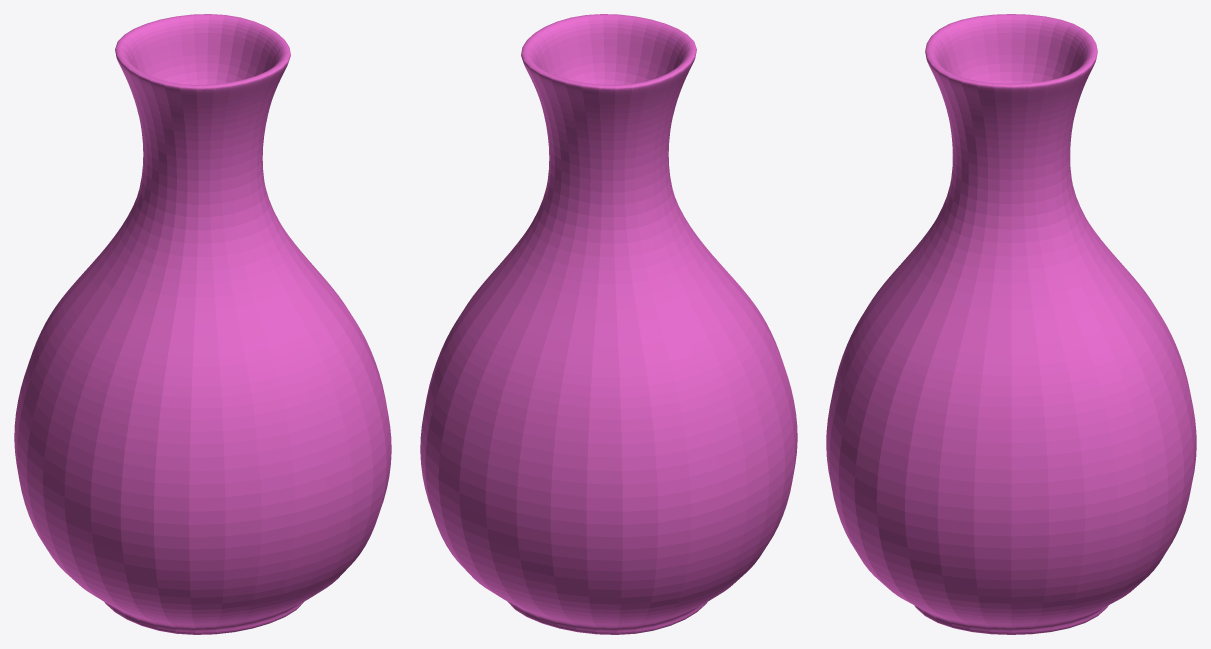
The picture shows the model from 3 angles, left to right: view 1: azimuth 30°, elevation 25°; view 2: azimuth 150°, elevation 25°; view 3: azimuth 270°, elevation 25°; orthographic projection.
Parts seen in each view (by area): view 1: 立方体.082; view 2: 立方体.082; view 3: 立方体.082.
Boxes of the visible parts, x1,y1,x2,y2 form: 立方体.082: [14, 14, 391, 634]; 立方体.082: [420, 14, 797, 634]; 立方体.082: [826, 14, 1196, 634].
Bounding box in the file's own units: 164 × 268 × 164.
